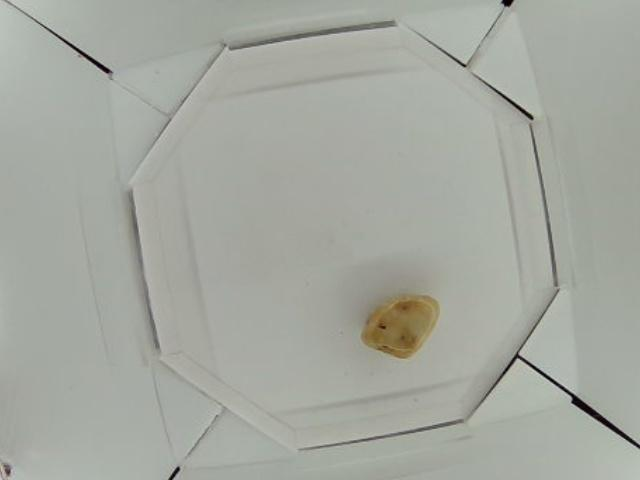Pebble: (362, 293, 439, 361)
